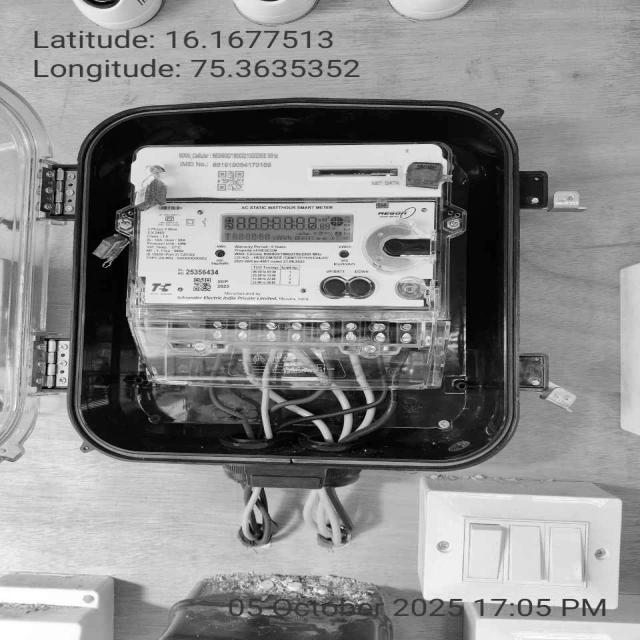meter: (124, 143, 449, 312)
